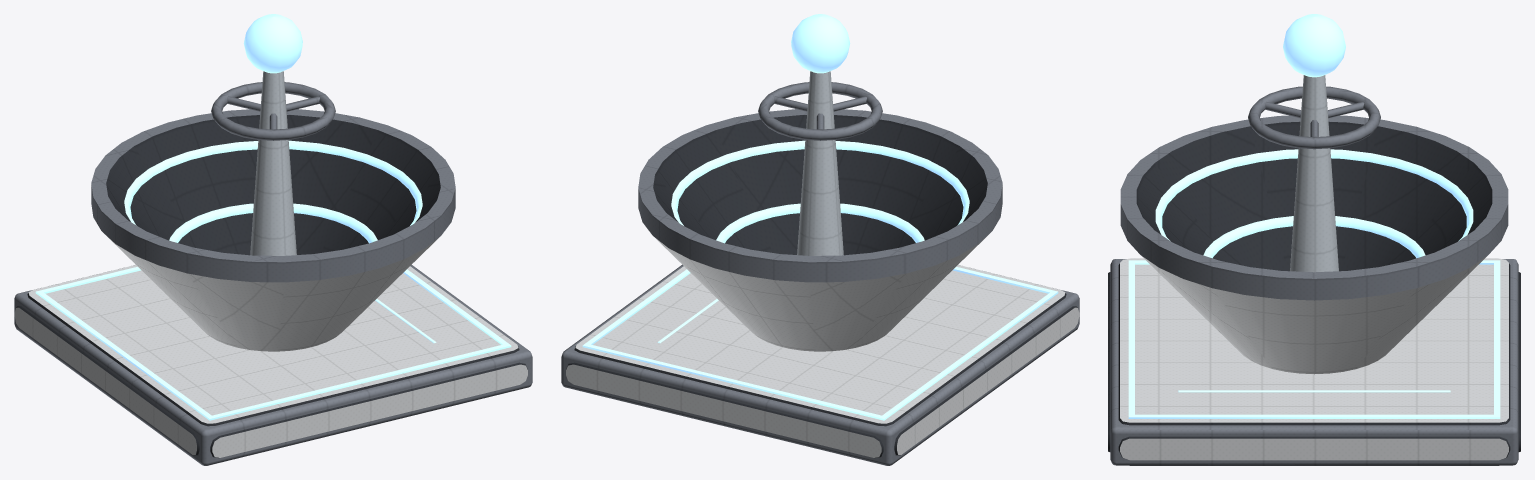
The model's file is R4X_ScannerPulse.glb.
The picture shows the model from 3 angles, left to right: view 1: azimuth 30°, elevation 25°; view 2: azimuth 150°, elevation 25°; view 3: azimuth 270°, elevation 25°; orthographic projection. The views are drawn at different scales.
Parts seen in each view (by area): view 1: R4X_ScannerPulse_Body; view 2: R4X_ScannerPulse_Body; view 3: R4X_ScannerPulse_Body.
Part boxes in pixels (box(x1,y1,x2,y2)): R4X_ScannerPulse_Body: box(14, 14, 532, 465); R4X_ScannerPulse_Body: box(561, 14, 1079, 465); R4X_ScannerPulse_Body: box(1108, 14, 1520, 465).
Bounding box in the file's own units: 0.52 × 0.51 × 0.52.
5 materials, 4 textured.
